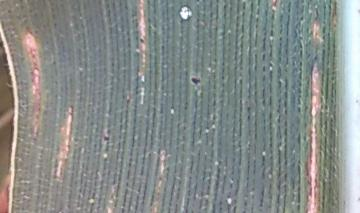tarspot: (188, 74, 203, 87), (100, 134, 111, 143), (138, 37, 145, 45)
